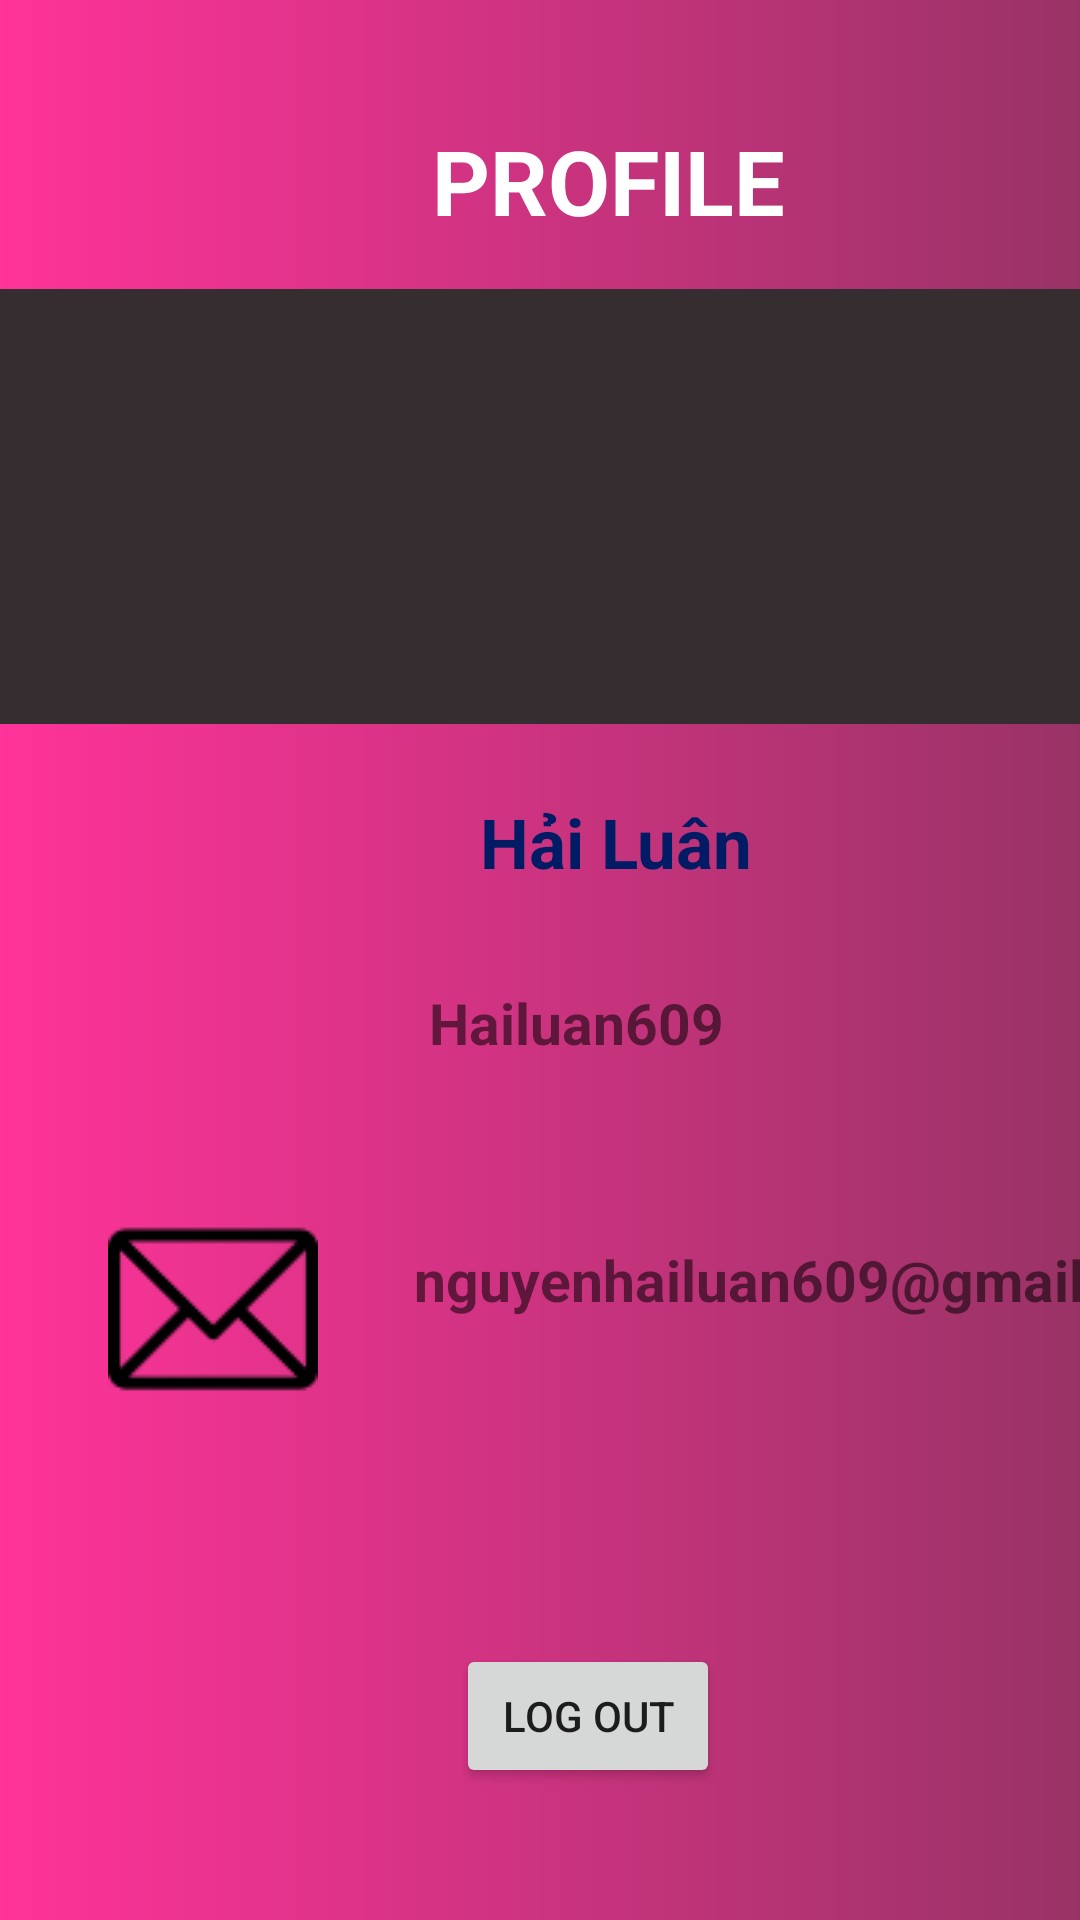

Point at icon controls on the screen. Image size 1080 × 1920, points as [x,y].
email: [213,1309]
